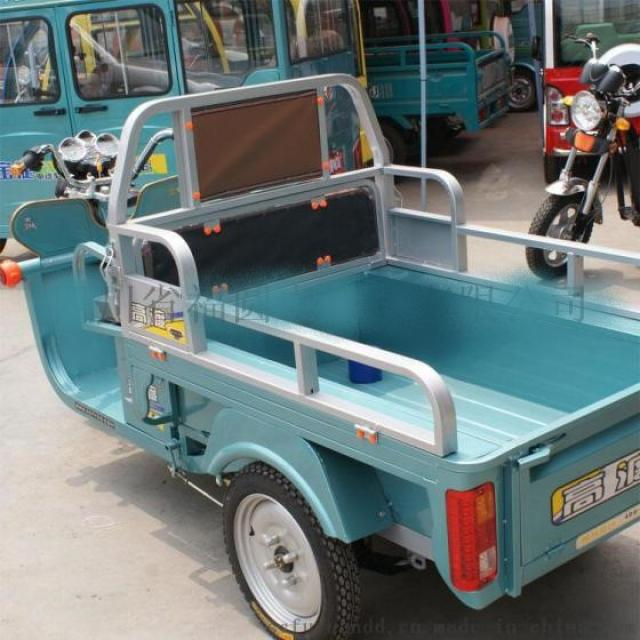motorbike: (515, 28, 639, 276)
tricycle: (6, 73, 639, 632), (516, 26, 639, 277), (361, 29, 510, 176)
